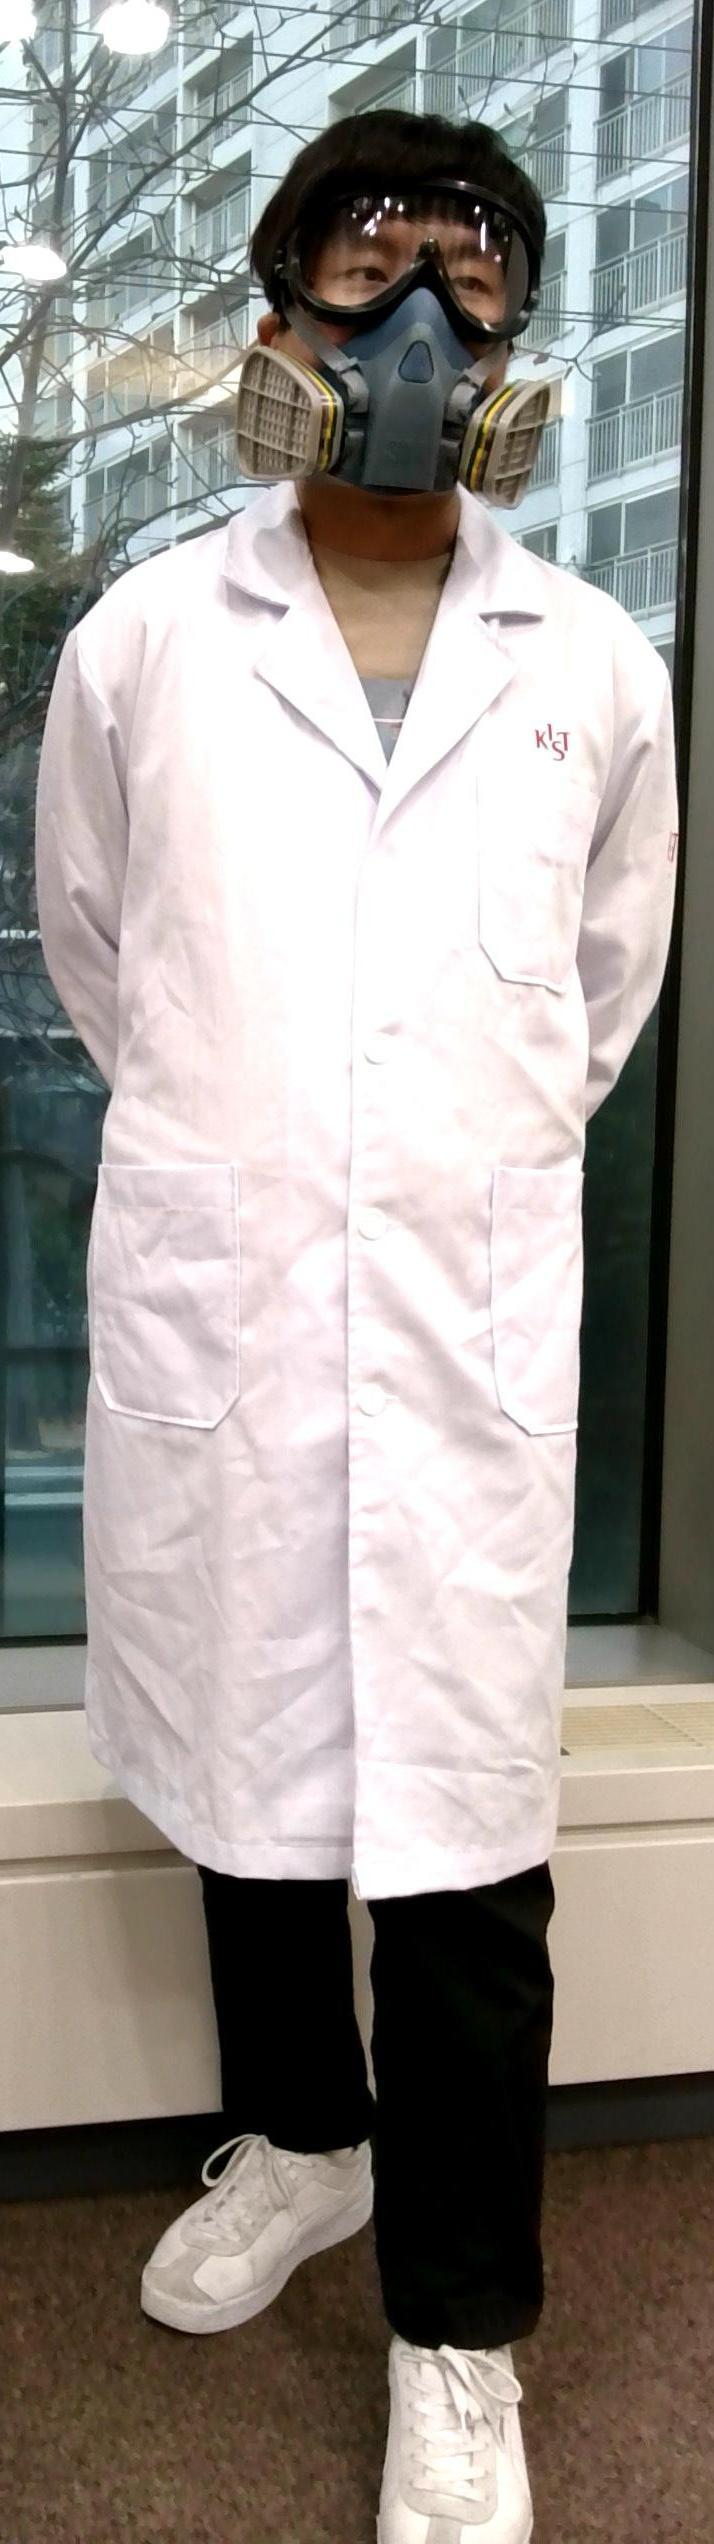lab_coat: (26, 521, 665, 1851)
